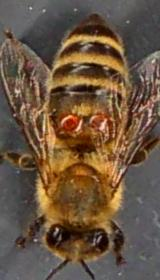varroa_mite: (57, 108, 85, 138)
